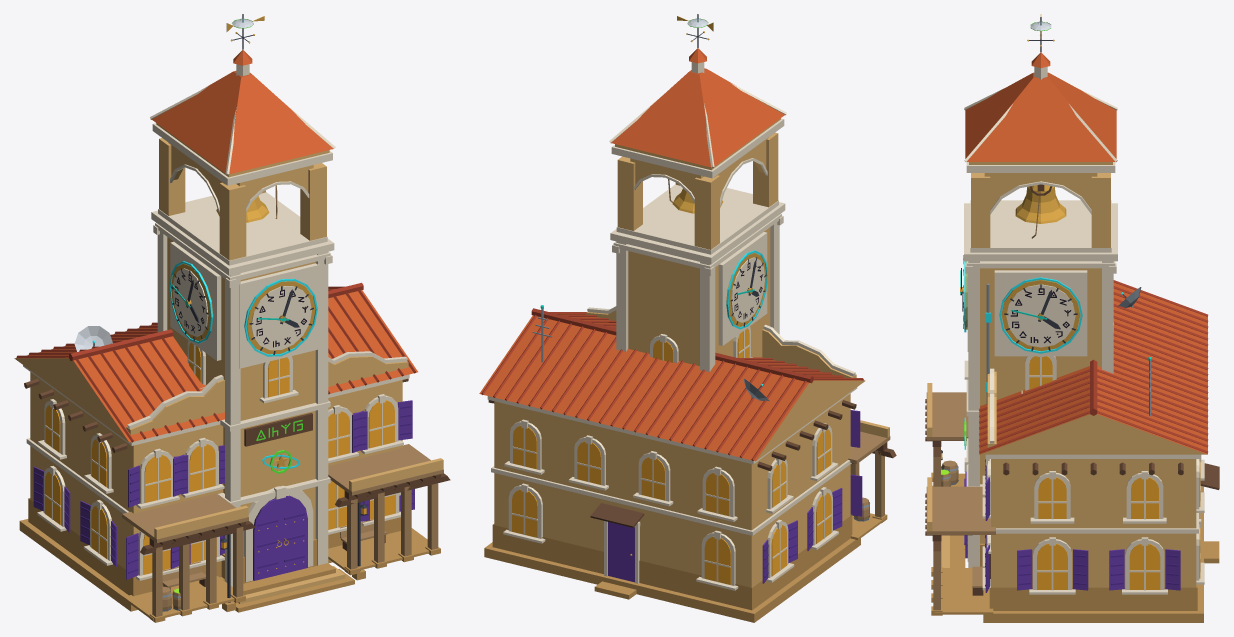
The model's file is Bldg_TownHall.obj.
3 renders of one model, left to right at view 1: azimuth 30°, elevation 25°; view 2: azimuth 150°, elevation 25°; view 3: azimuth 270°, elevation 25°, orthographic. The views are drawn at different scales.
Visible parts, largest first — view 1: Bldg_TownHall_Body, Bldg_TownHall_Door_L, Bldg_TownHall_Door_R; view 2: Bldg_TownHall_Body; view 3: Bldg_TownHall_Body, Bldg_TownHall_Bell.
Part boxes in pixels (x1=…): Bldg_TownHall_Body: x1=14, y1=50, x2=450, y2=622; Bldg_TownHall_Door_L: x1=253, y1=498, x2=281, y2=580; Bldg_TownHall_Door_R: x1=281, y1=496, x2=307, y2=574; Bldg_TownHall_Body: x1=479, y1=48, x2=896, y2=622; Bldg_TownHall_Body: x1=925, y1=52, x2=1219, y2=622; Bldg_TownHall_Bell: x1=1015, y1=185, x2=1066, y2=223.
Bounding box in the file's own units: 13.7 × 23.24 × 11.46.
